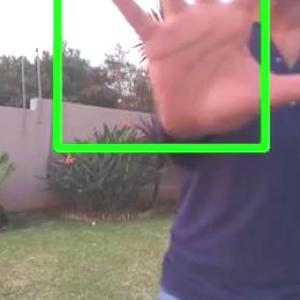follow_hand: (92, 0, 299, 148)
